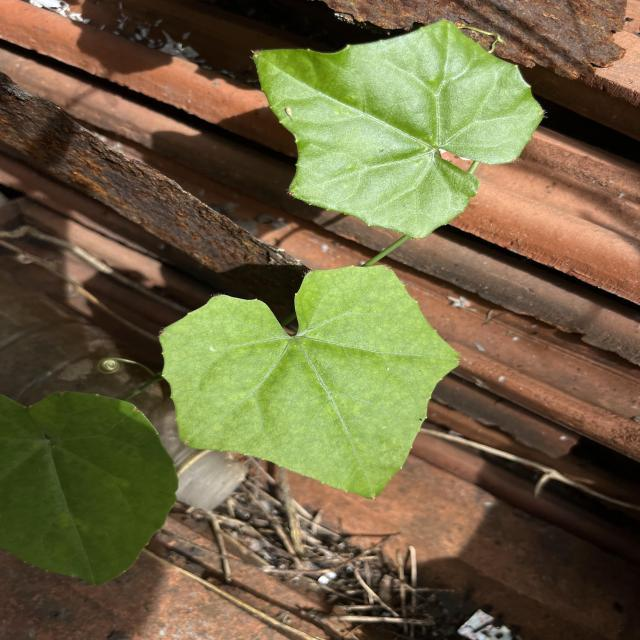Coccinia grandis: (154, 262, 466, 503), (247, 16, 549, 242)
